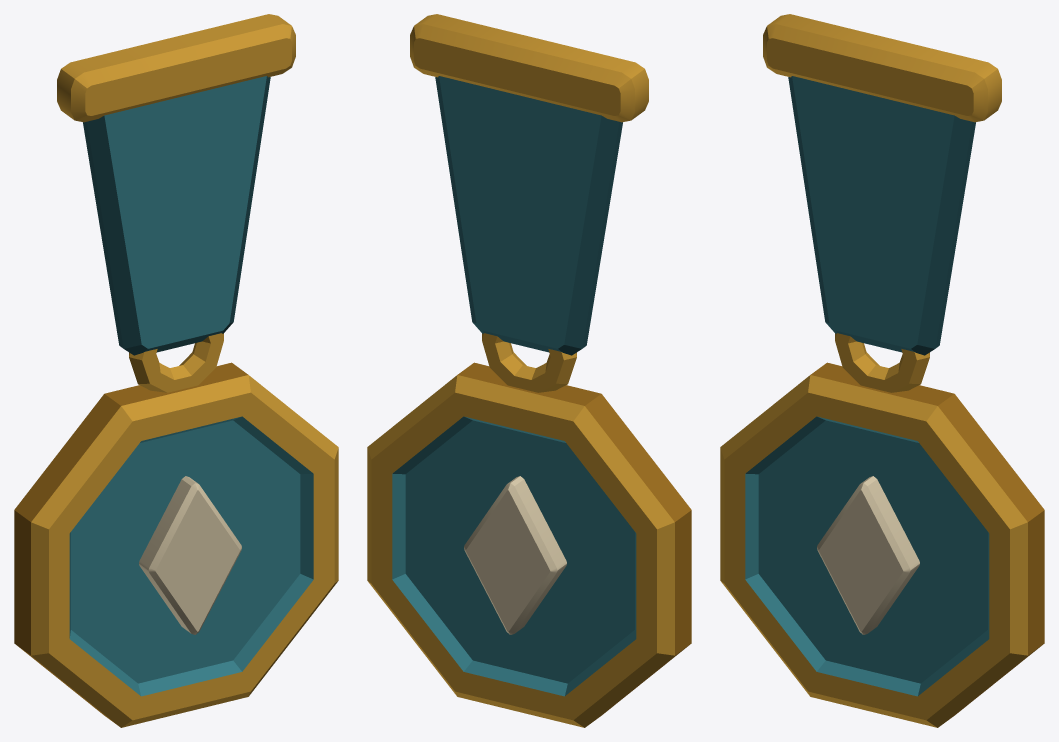
Rendered from Medal_16.glb.
3 views of the same model, side by side, from view 1: azimuth 30°, elevation 25°; view 2: azimuth 150°, elevation 25°; view 3: azimuth 330°, elevation 25° (orthographic).
Parts seen in each view (by area): view 1: Medal_16; view 2: Medal_16; view 3: Medal_16.
Part boxes in pixels (x1=…): Medal_16: x1=14, y1=14, x2=338, y2=727; Medal_16: x1=367, y1=14, x2=691, y2=727; Medal_16: x1=720, y1=14, x2=1044, y2=727.
Size of the model in its own units: 1.16 by 2.39 by 0.28.
